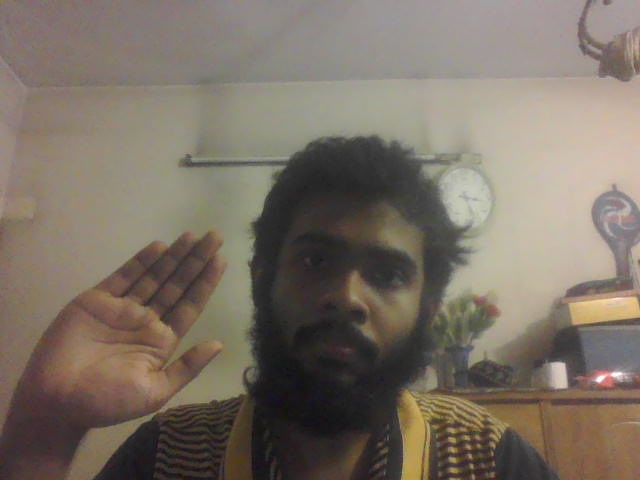Hello: (1, 228, 226, 422)
